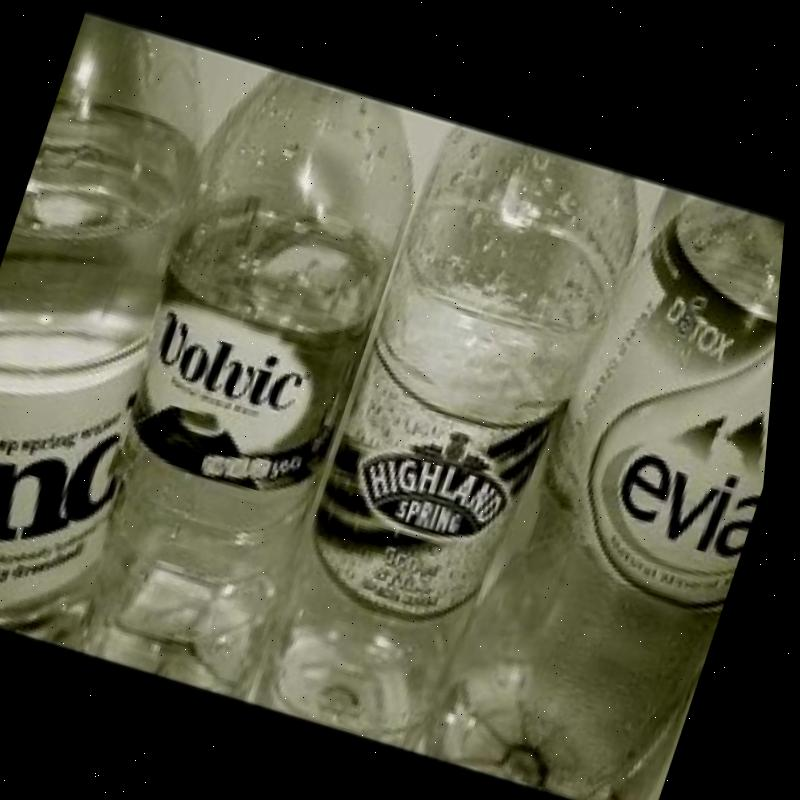botella: (33, 45, 457, 706), (254, 110, 665, 765), (439, 160, 791, 800), (0, 8, 293, 656)
